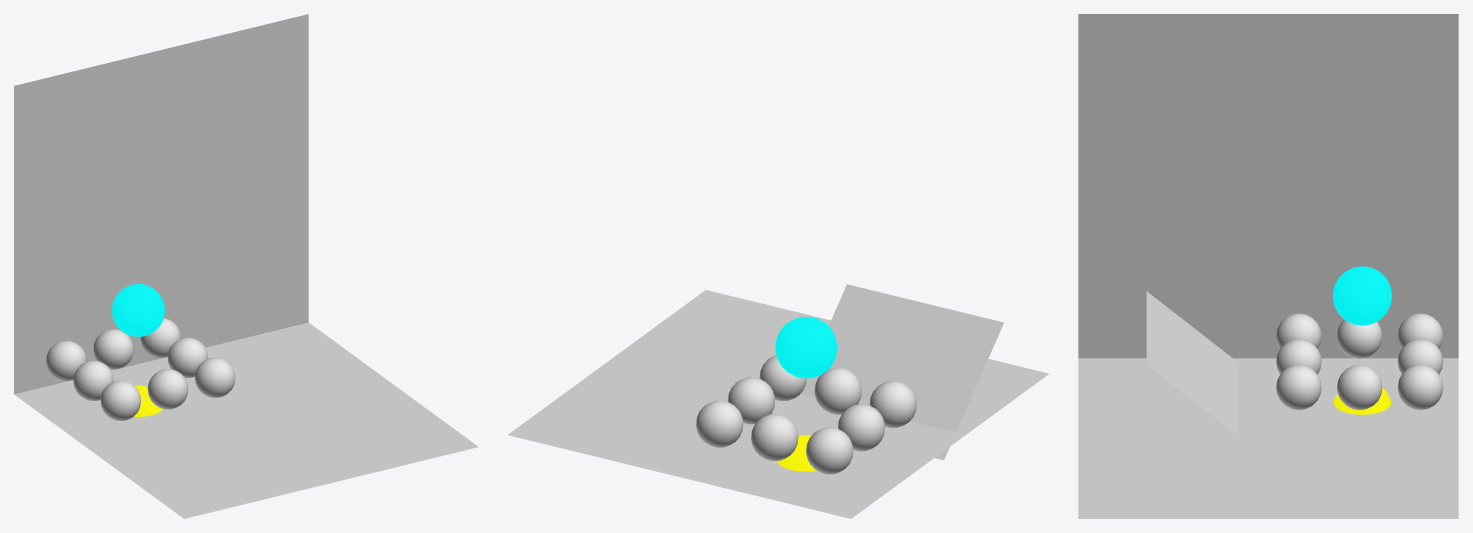
The model's file is GIBox2.gltf.
The picture shows the model from 3 angles, left to right: view 1: azimuth 30°, elevation 25°; view 2: azimuth 150°, elevation 25°; view 3: azimuth 270°, elevation 25°; orthographic projection. The views are drawn at different scales.
Visible parts, largest first — view 1: Plane, Icosphere, Icosphere.001, Icosphere.007, Icosphere.008, Icosphere.002, Icosphere.006, Icosphere.003, Icosphere.004, Icosphere.005; view 2: Plane, Icosphere, Icosphere.005, Icosphere.006, Icosphere.002, Icosphere.001, Icosphere.003, Icosphere.007, Icosphere.004, Icosphere.008, Icosphere.009; view 3: Plane, Icosphere, Icosphere.005, Icosphere.008, Icosphere.004, Icosphere.003, Icosphere.007, Icosphere.002, Icosphere.001, Icosphere.006, Icosphere.009.
Boxes of the visible parts, x1,y1,x2,y2 form: Plane: [14, 14, 478, 518]; Icosphere: [112, 284, 164, 336]; Icosphere.001: [147, 369, 188, 409]; Icosphere.007: [100, 380, 140, 420]; Icosphere.008: [195, 357, 235, 397]; Icosphere.002: [93, 329, 133, 369]; Icosphere.006: [46, 340, 86, 381]; Icosphere.003: [73, 360, 113, 400]; Icosphere.004: [167, 337, 208, 377]; Icosphere.005: [140, 318, 180, 358]; Plane: [508, 284, 1048, 518]; Icosphere: [775, 316, 837, 378]; Icosphere.005: [696, 400, 743, 447]; Icosphere.006: [806, 427, 853, 474]; Icosphere.002: [751, 414, 798, 460]; Icosphere.001: [814, 367, 861, 414]; Icosphere.003: [838, 404, 884, 451]; Icosphere.007: [869, 381, 916, 427]; Icosphere.004: [728, 377, 774, 424]; Icosphere.008: [759, 355, 806, 401]; Icosphere.009: [777, 435, 816, 471]; Plane: [1078, 14, 1458, 518]; Icosphere: [1332, 266, 1392, 325]; Icosphere.005: [1397, 364, 1443, 410]; Icosphere.008: [1276, 364, 1321, 410]; Icosphere.004: [1337, 364, 1382, 410]; Icosphere.003: [1337, 319, 1382, 358]; Icosphere.007: [1276, 313, 1321, 348]; Icosphere.002: [1397, 339, 1443, 374]; Icosphere.001: [1276, 339, 1321, 374]; Icosphere.006: [1397, 313, 1443, 348]; Icosphere.009: [1334, 388, 1390, 414].
Size of the model in its own units: 5 by 5.49 by 5.
